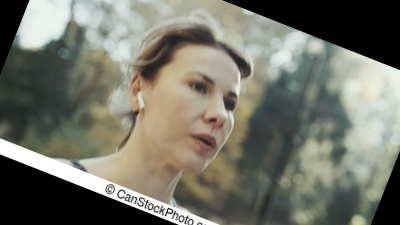earphone: (120, 71, 158, 118)
